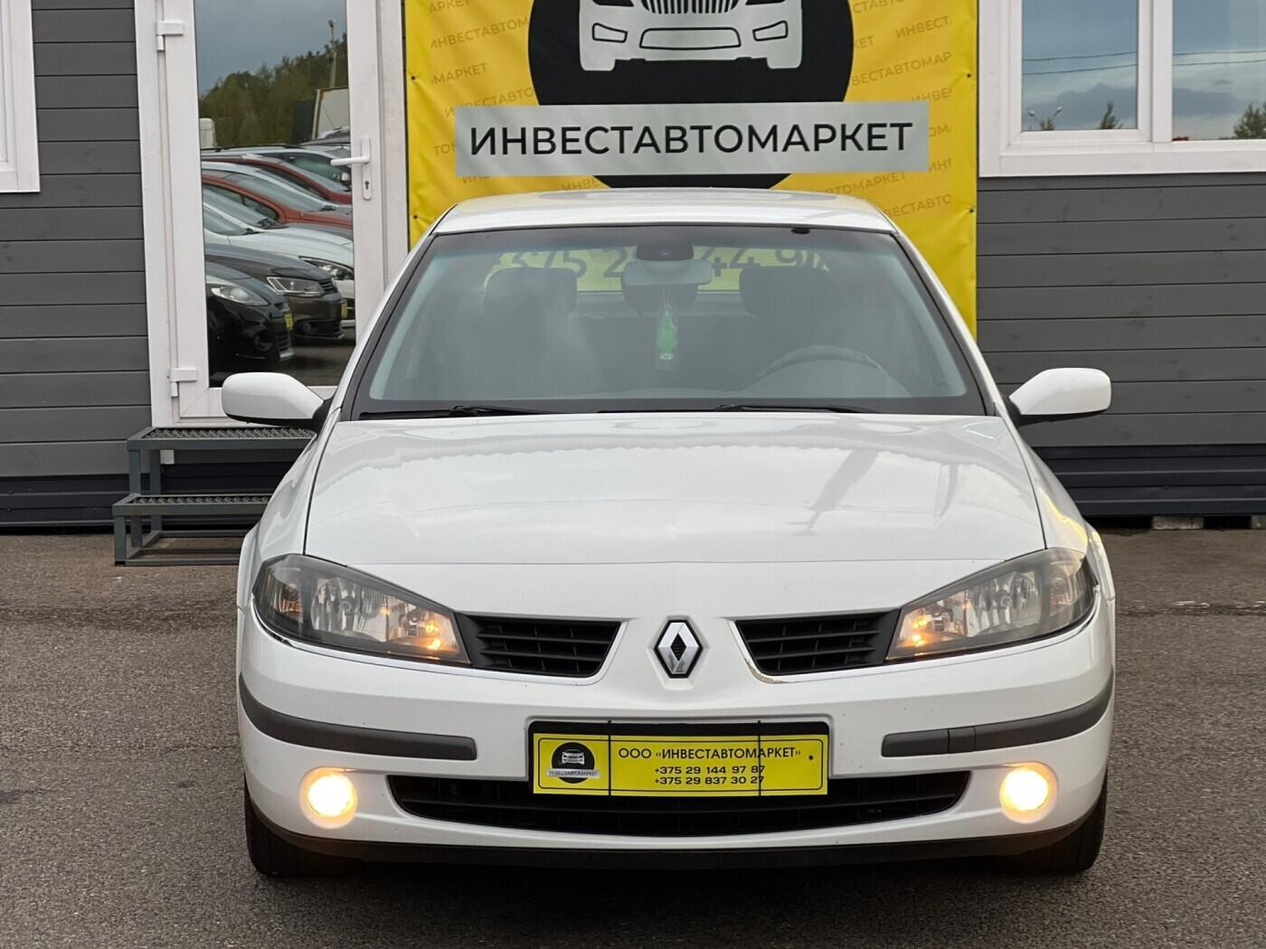Laguna_2005-2007: (218, 182, 1136, 910)
